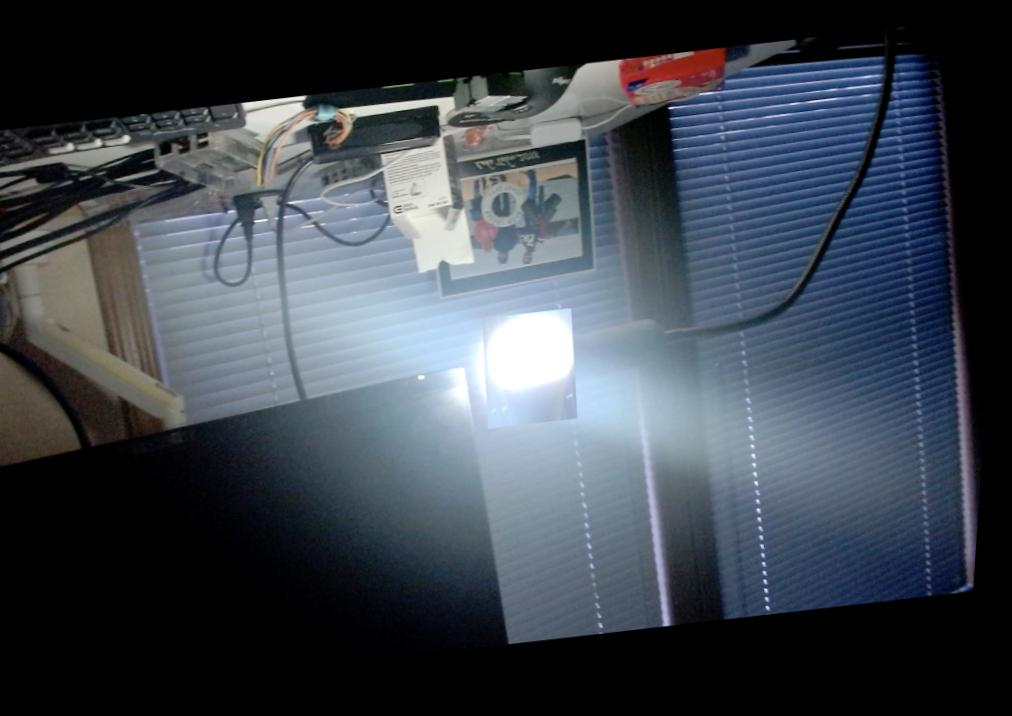TubeLight: (476, 310, 594, 423)
